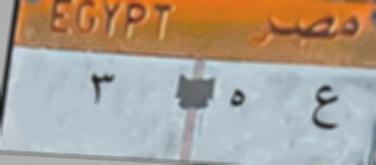3: (88, 68, 118, 109)
ain: (306, 78, 344, 139)
haa: (224, 82, 253, 118)
